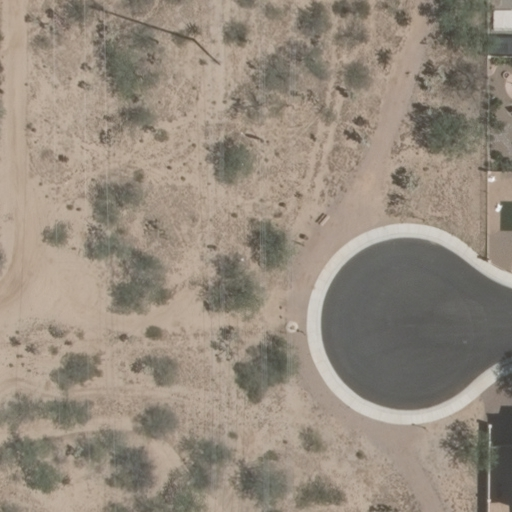DT: (189, 38, 220, 64)
